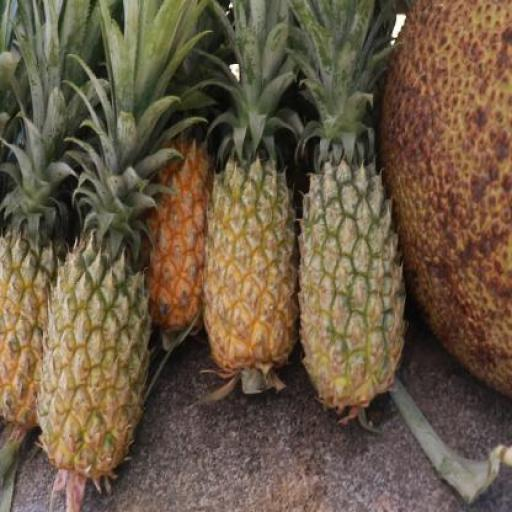------------------------------: (37, 244, 144, 467)
Pineapple - v8 v1: (202, 162, 294, 364), (144, 140, 218, 345), (0, 230, 50, 430)
